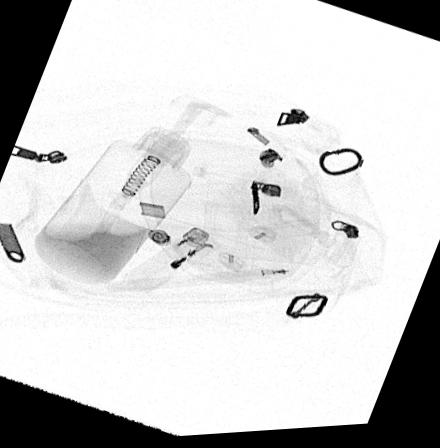Lighter: (124, 230, 217, 297)
